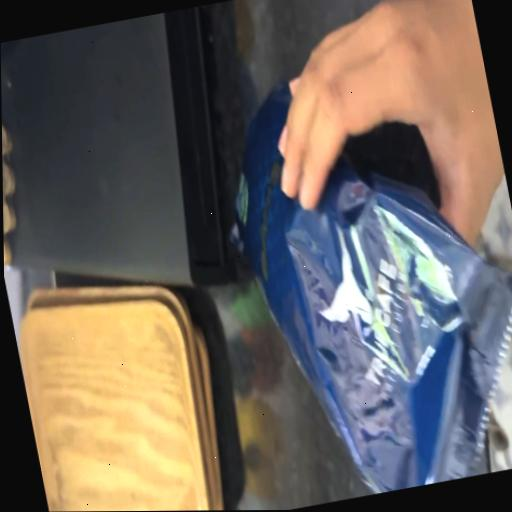cafe_hat: (233, 85, 512, 494)
